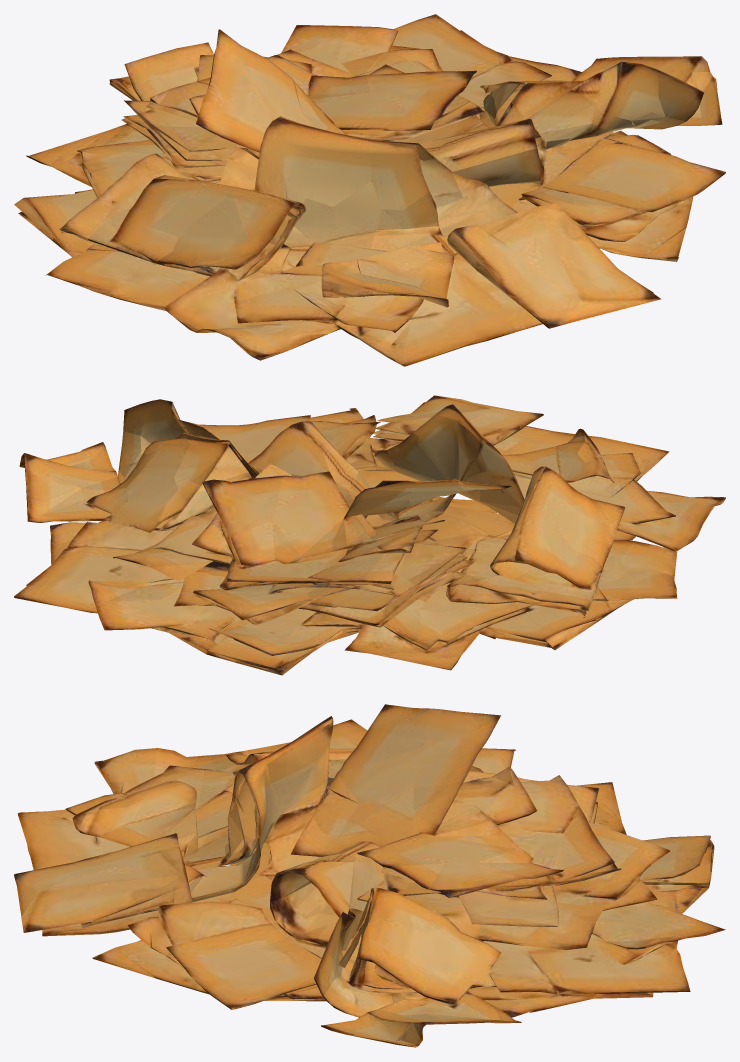
The model's file is cartelle_terra_N.glb.
3 views of the same model, one above another, from view 1: azimuth 30°, elevation 25°; view 2: azimuth 150°, elevation 25°; view 3: azimuth 270°, elevation 25° (orthographic). The views are drawn at different scales.
Parts seen in each view (by area): view 1: Mesh_0; view 2: Mesh_0; view 3: Mesh_0.
Part boxes in pixels (x1=…): Mesh_0: x1=14, y1=14, x2=725, y2=366; Mesh_0: x1=14, y1=395, x2=725, y2=675; Mesh_0: x1=14, y1=704, x2=725, y2=1047.
Bounding box in the file's own units: 1 × 0.1901 × 0.9163.
Materials: 1 (1 with a texture image).
